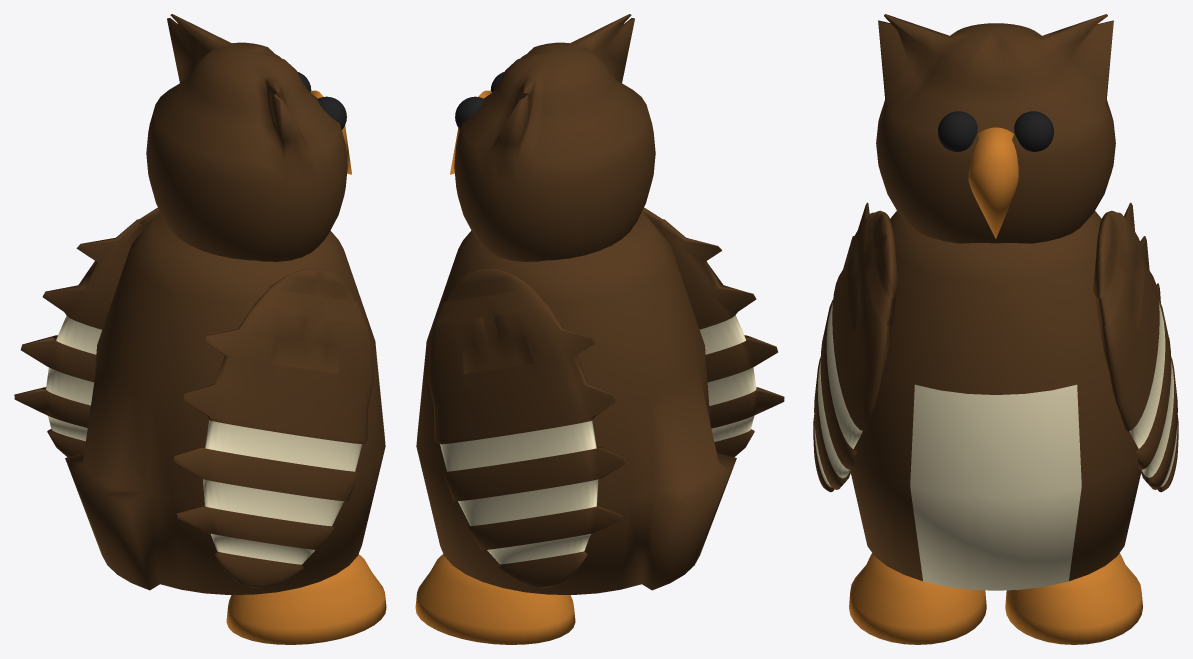
Rendered from toyowlfinal.fbx.
3 renders of one model, left to right at view 1: azimuth 30°, elevation 25°; view 2: azimuth 150°, elevation 25°; view 3: azimuth 270°, elevation 25°, orthographic. The views are drawn at different scales.
Parts seen in each view (by area): view 1: Cylinder, Sphere.002, Sphere.004, Sphere.003, Sphere; view 2: Cylinder, Sphere.003, Sphere.004, Sphere.002, Sphere.001, Sphere.006; view 3: Cylinder, Sphere.004, Sphere.003, Sphere.002, Sphere, Sphere.001, Cone, Sphere.006, Sphere.005.
Part boxes in pixels (box(x1,y1,x2,y2)): Cylinder: box(65, 211, 385, 594); Sphere.002: box(173, 268, 373, 587); Sphere.004: box(146, 14, 347, 261); Sphere.003: box(14, 207, 159, 457); Sphere: box(226, 554, 386, 644); Cylinder: box(416, 211, 736, 594); Sphere.003: box(428, 268, 625, 587); Sphere.004: box(454, 14, 655, 261); Sphere.002: box(642, 207, 784, 457); Sphere.001: box(415, 554, 575, 644); Sphere.006: box(455, 96, 484, 129); Cylinder: box(850, 211, 1141, 590); Sphere.004: box(876, 14, 1115, 243); Sphere.003: box(1093, 202, 1178, 492); Sphere.002: box(813, 202, 898, 492); Sphere: box(849, 553, 986, 644); Sphere.001: box(1005, 553, 1142, 644); Cone: box(968, 127, 1018, 238); Sphere.006: box(1014, 111, 1053, 151); Sphere.005: box(938, 111, 977, 151).
Bounding box in the file's own units: 262 × 487 × 283.
